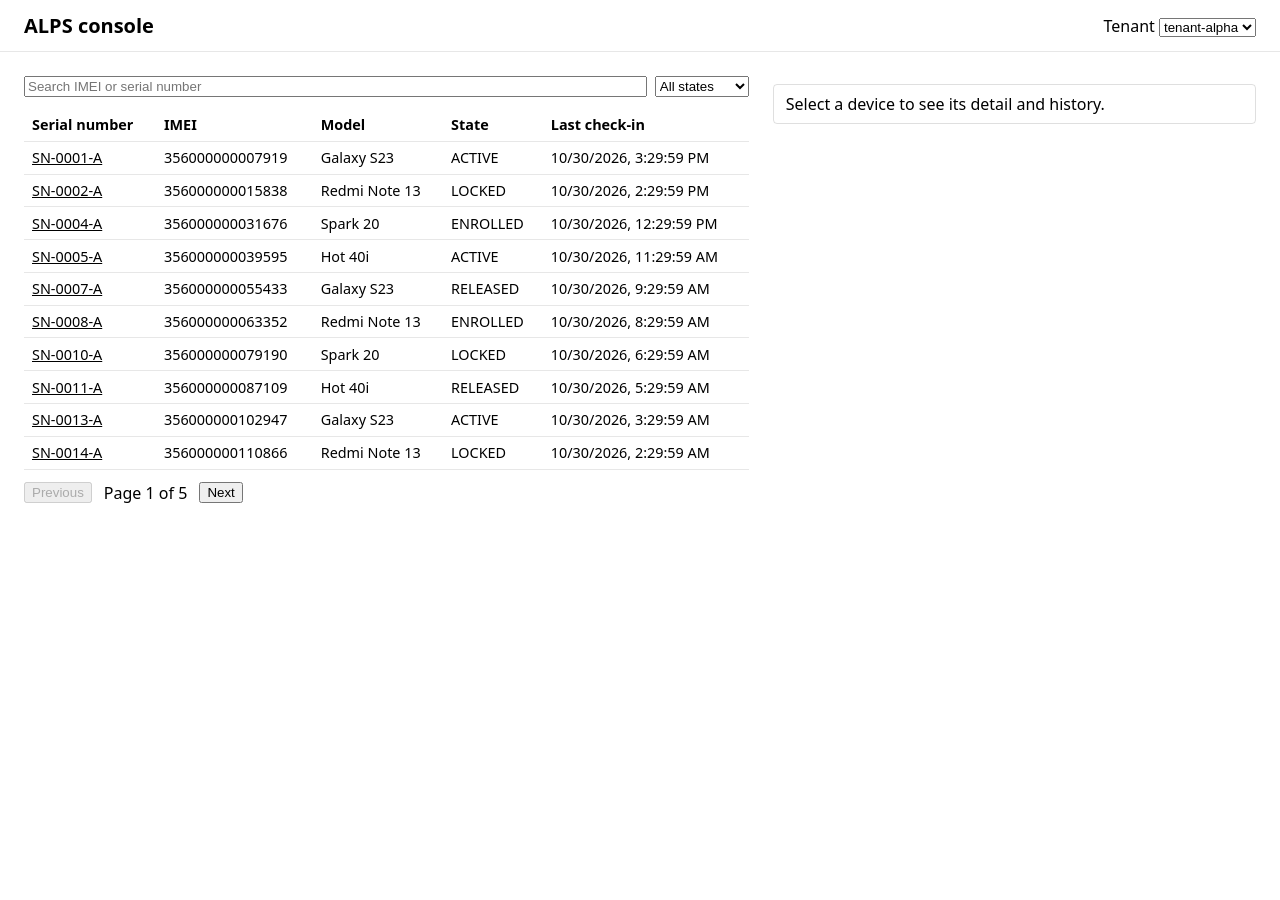
Test case: Device console › shows a device’s detail and history, and replaces them when another is selected
The image size is (1280, 900).
Expected: the table named "Device list" is shown, [24,109,749,470]
Step 1. Click the button "SN-0001-A" → (67, 158), box [32,148,102,167]
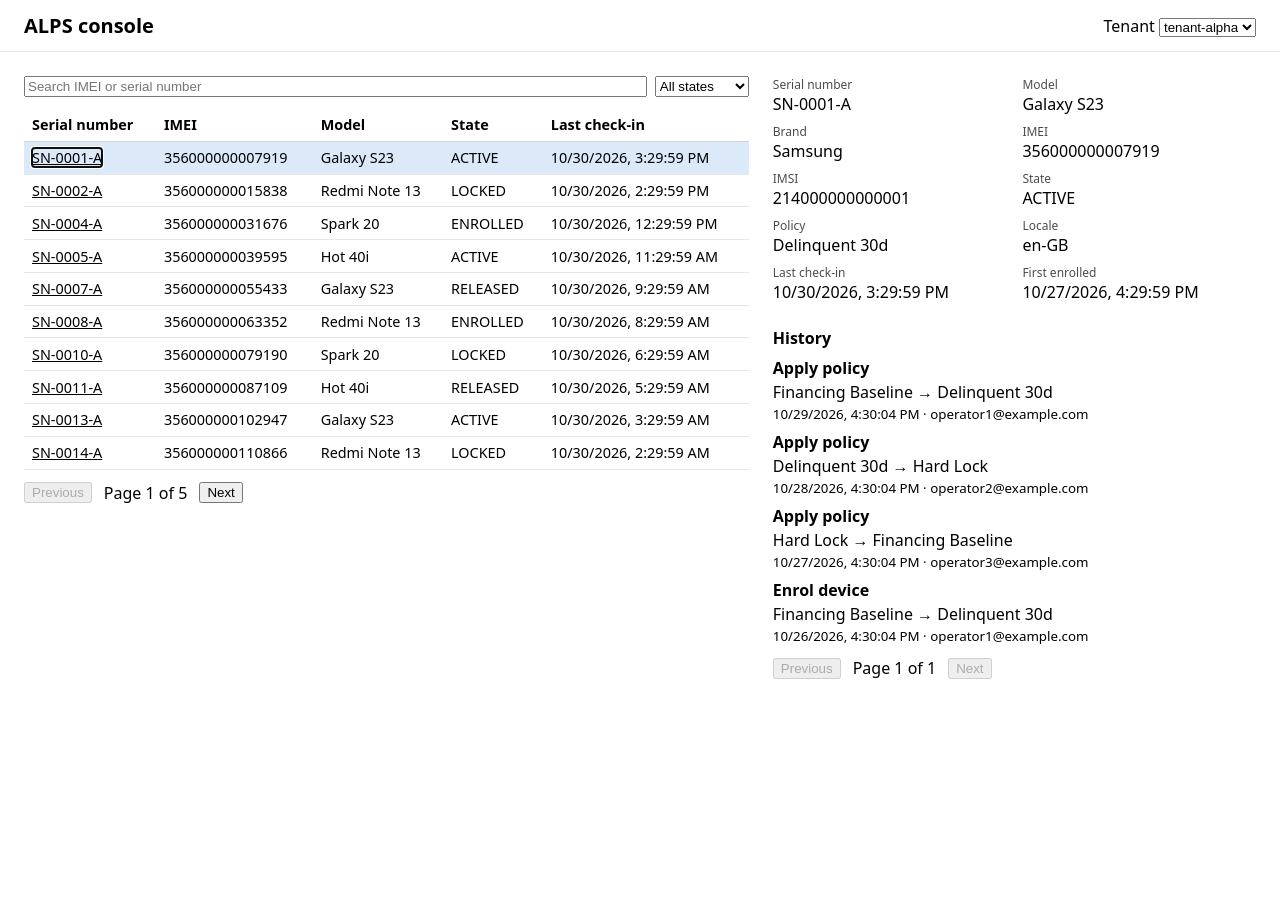
Expected: the text "Galaxy S23" is shown, [1022,93,1104,115]
Expected: the text "Page 1 of 1" is shown, [853,657,936,679]
Expected: the number of list items is 4, [773,357,1088,423]; [773,431,1088,497]; [773,505,1088,571]; [773,579,1088,645]
Step 2. Click the button "SN-0002-A" → (67, 190), box [32,181,102,200]
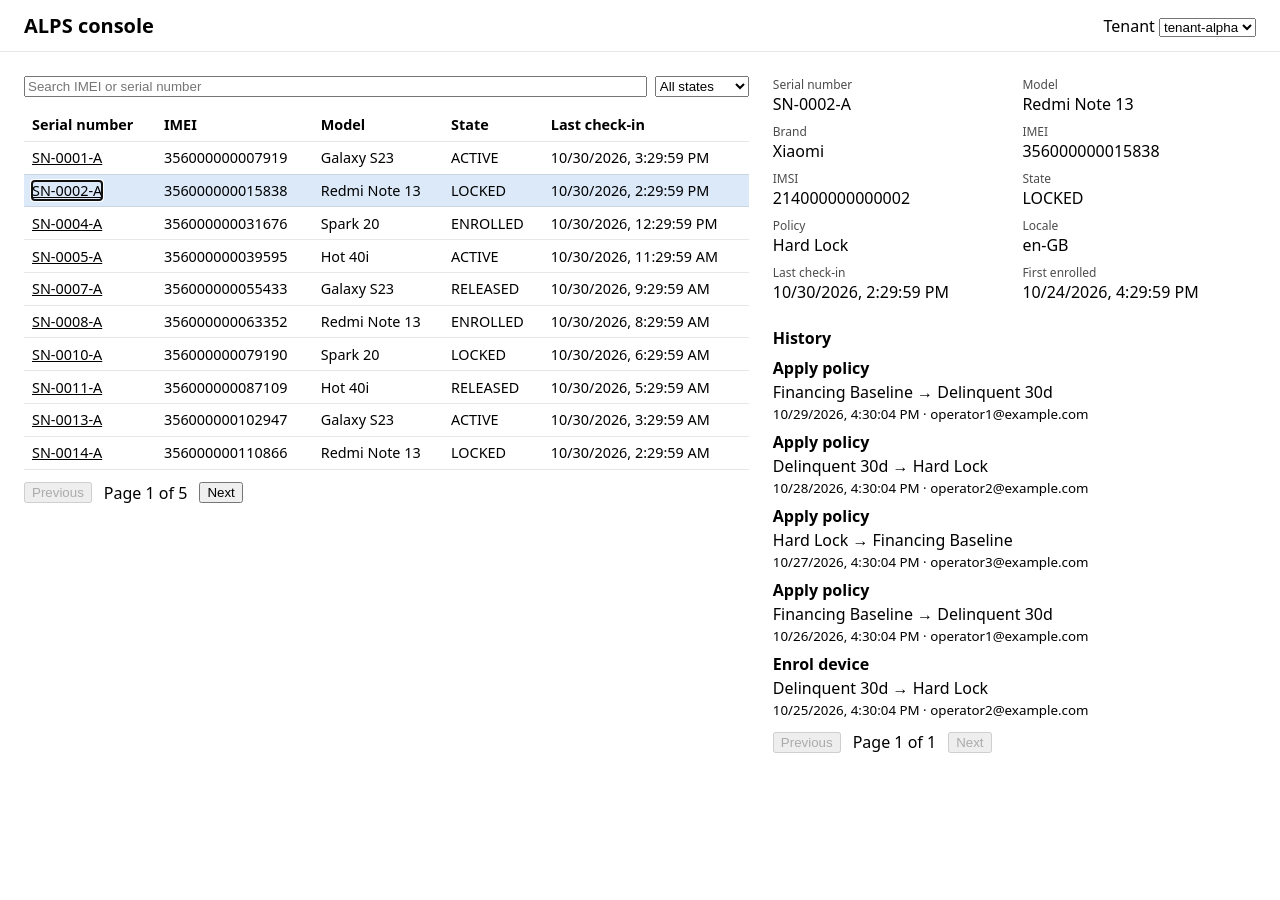
Expected: the text "Redmi Note 13" is shown, [1022,93,1134,115]
